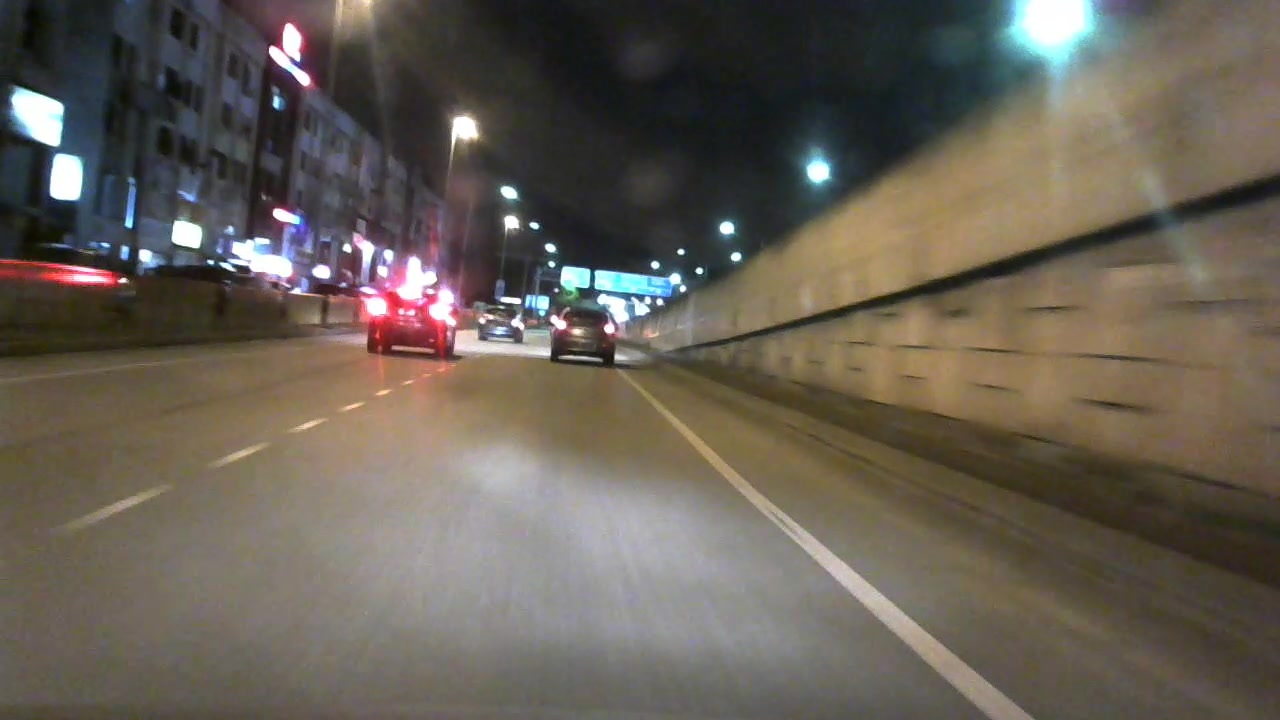Car: (359, 278, 461, 365), (550, 303, 620, 373), (477, 295, 524, 346)
